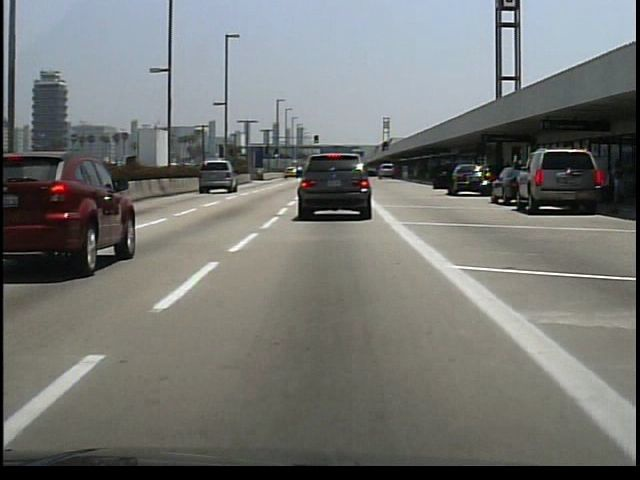person: (607, 154, 628, 211)
